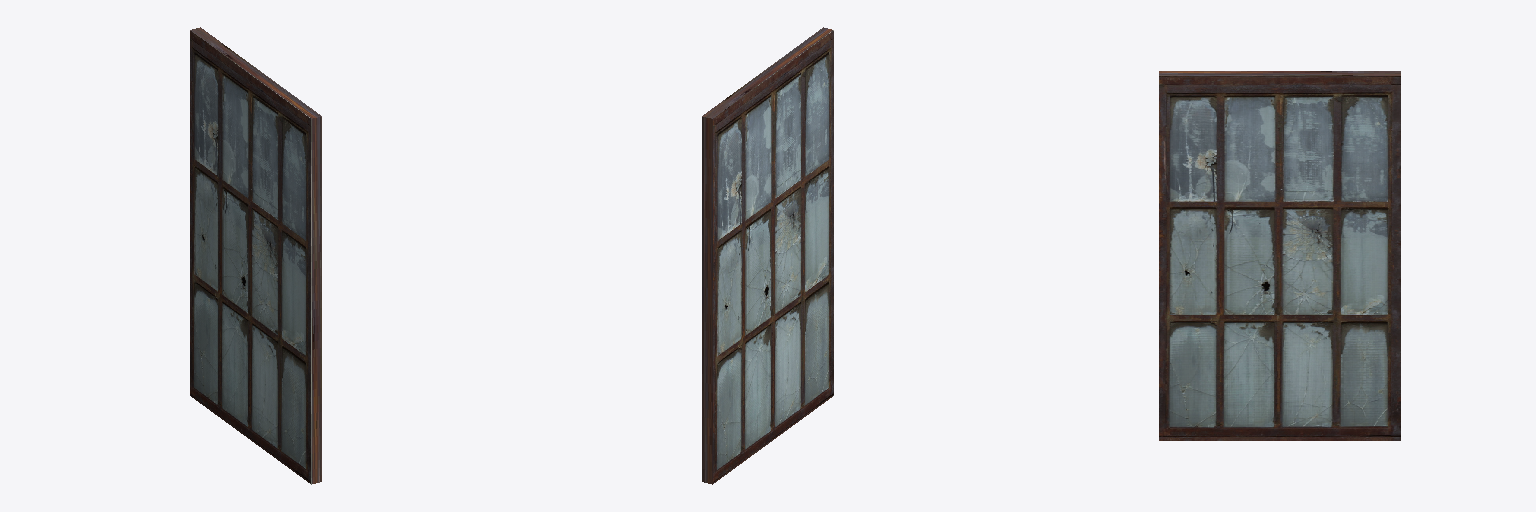
3 renders of one model, left to right at view 1: azimuth 30°, elevation 25°; view 2: azimuth 150°, elevation 25°; view 3: azimuth 270°, elevation 25°, orthographic.
Visible parts, largest first — view 1: pCube15; view 2: pCube15; view 3: pCube15.
Part boxes in pixels (x1,y1,x2,y2): pCube15: (190, 27, 321, 484); pCube15: (702, 27, 833, 484); pCube15: (1159, 71, 1400, 440).
Size of the model in its own units: 0.0883 by 2.8 by 1.69.
1 materials, 1 textured.